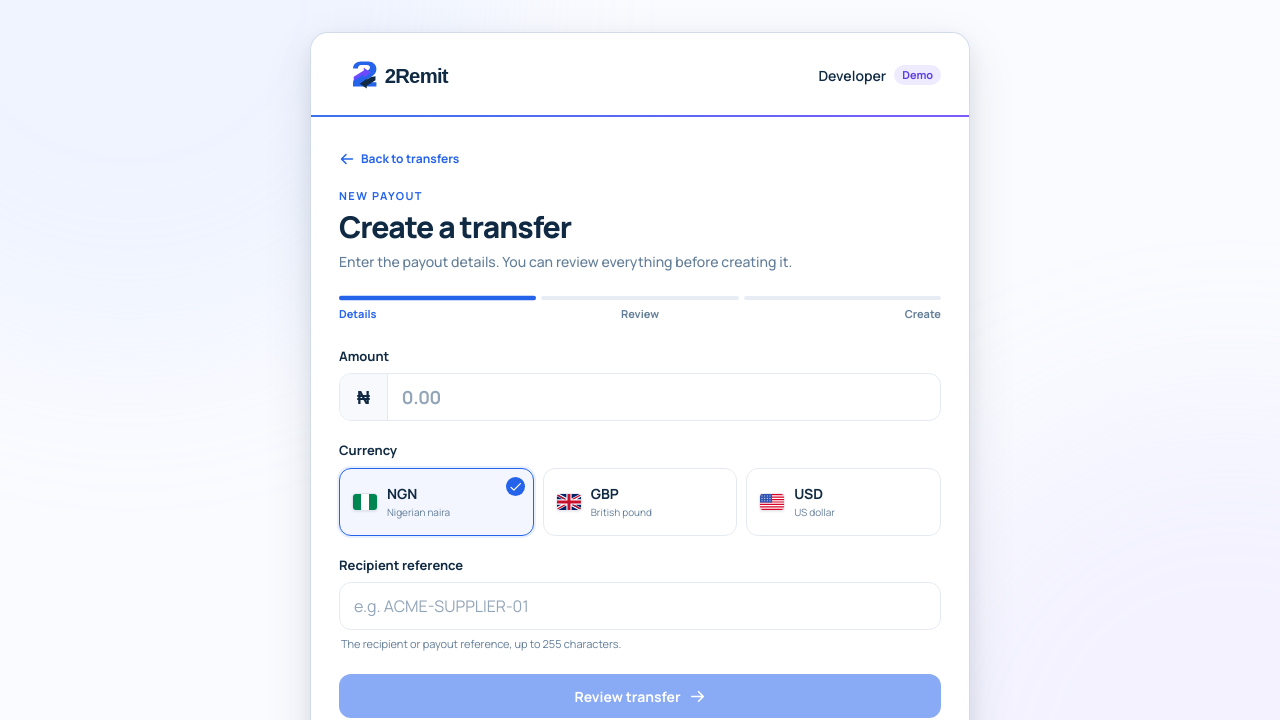
Test: CreateTransferScreen › adds currency symbols and completes cents when leaving the amount
The width and height of the screenshot is (1280, 720).
Type "250000" into the field labelled "Amount".
click(664, 398); type("250000")  # box [388,374,940,420]
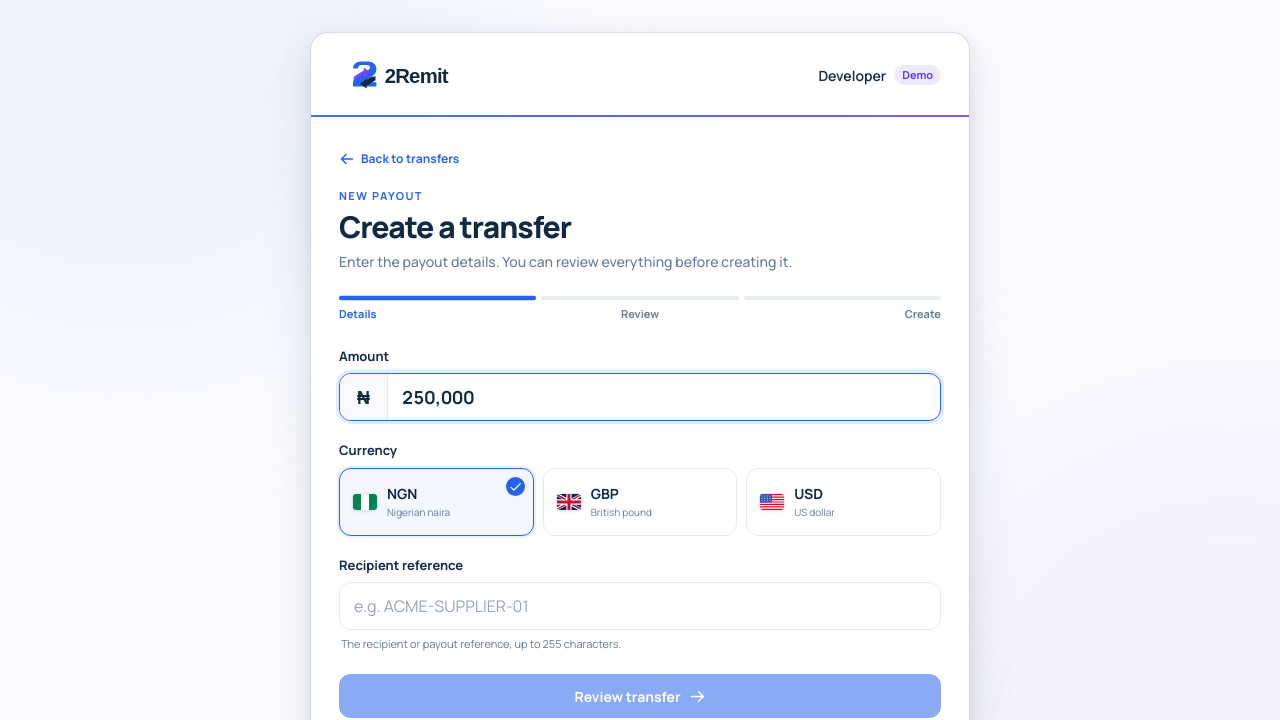
Press Tab
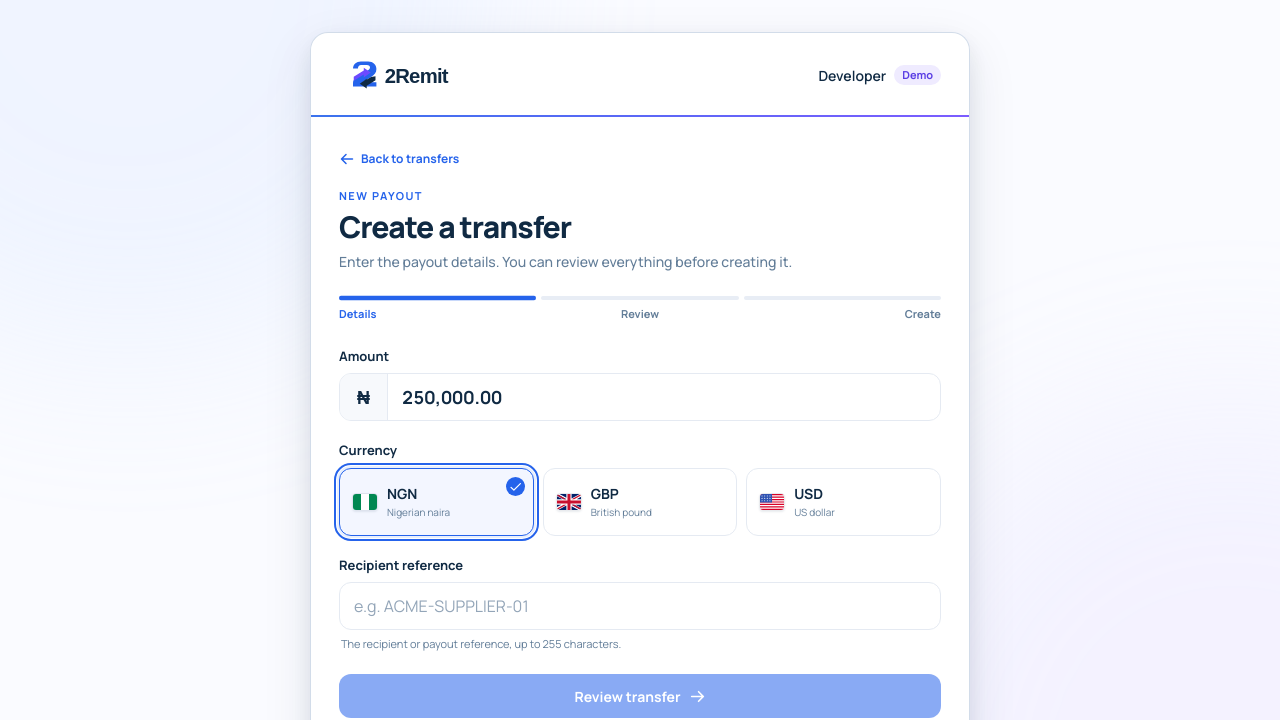
Expected: the text "₦" is shown, [340,374,388,420]
Now the field labelled "Amount" holds "250,000.00", box [388,374,940,420]
